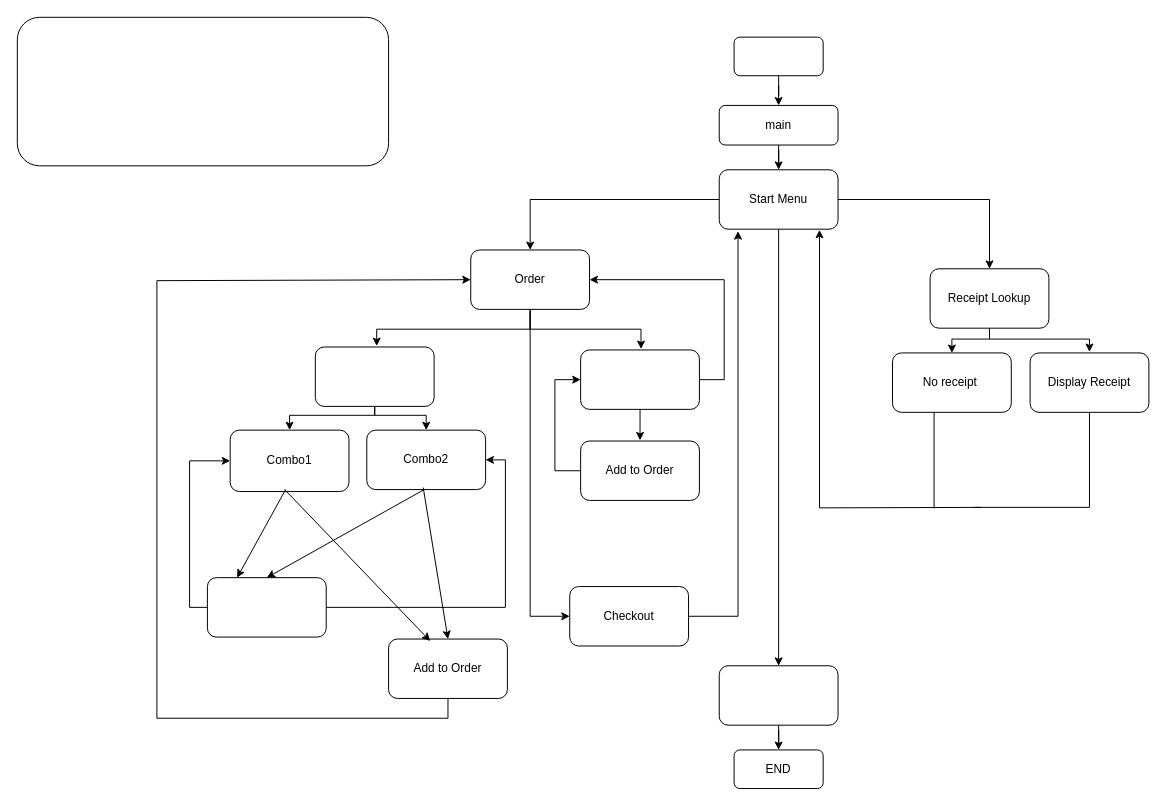
Image size: 1166x806. Some labels were removed from this diagram. Here are the shapes that lost their labels. From the top down, the centre of each, then its label:
At point 778,56: "START".
At point 202,91: "Char-Cuties Charcuterie".
At point 374,376: "Combo".
At point 639,379: "List of Items".
At point 266,607: "Customize".
At point 778,695: "Shutdown".
